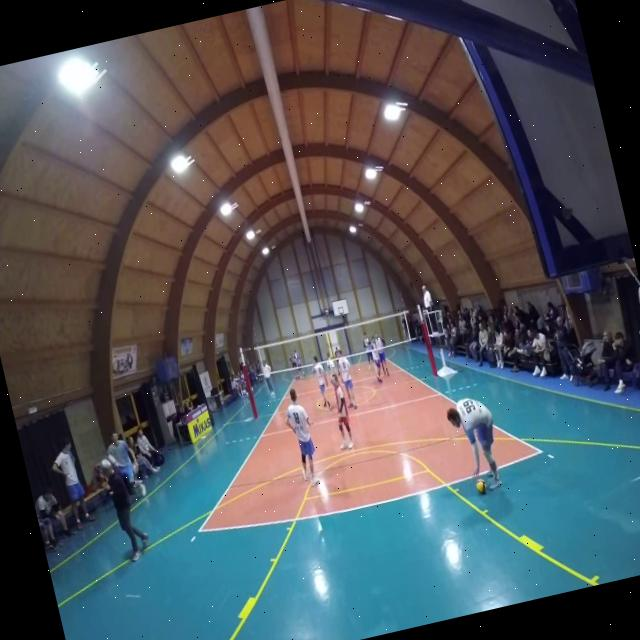Volleyball: (474, 476, 490, 496)
